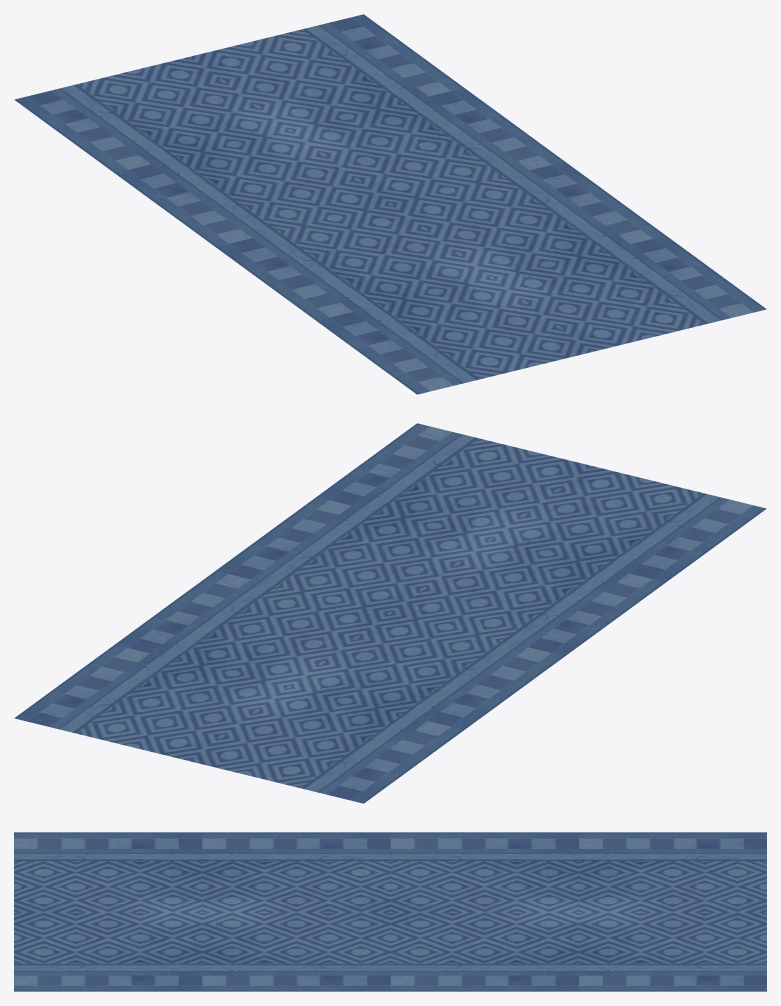
The model's file is guchengqishituan_dibiao_08.FBX.
3 renders of one model, top to bottom at view 1: azimuth 30°, elevation 25°; view 2: azimuth 150°, elevation 25°; view 3: azimuth 270°, elevation 25°, orthographic. The views are drawn at different scales.
Visible parts, largest first — view 1: dibiao_006; view 2: dibiao_006; view 3: dibiao_006.
Boxes of the visible parts, x1,y1,x2,y2 form: dibiao_006: [14, 14, 766, 394]; dibiao_006: [14, 423, 766, 803]; dibiao_006: [14, 832, 766, 991].
Bounding box in the file's own units: 8.03 × 7e-07 × 16.02.
